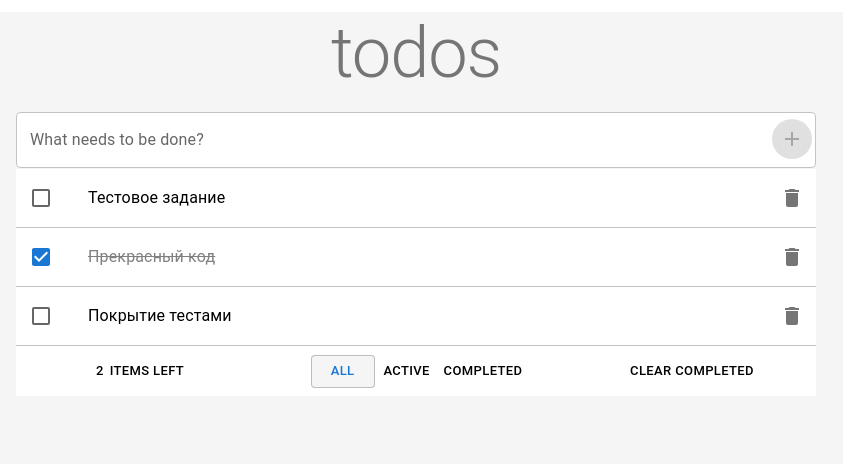
Test: TodoList › should add a task on pressing Enter key
Type "New task" into the field labelled "What needs to be done?".
click(416, 140); type("New task")  # box [16,112,816,168]
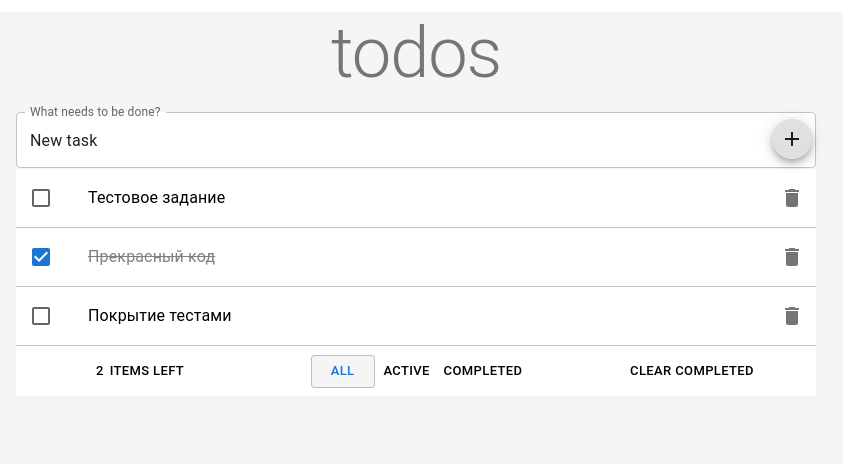
Press Enter in the field labelled "What needs to be done?", box [16,112,816,168]
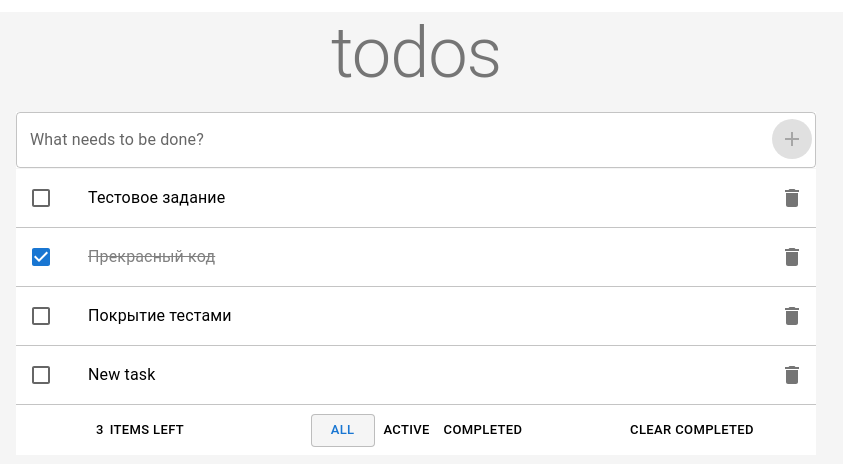
Now the text "New task" is shown, box [88,365,155,384]
